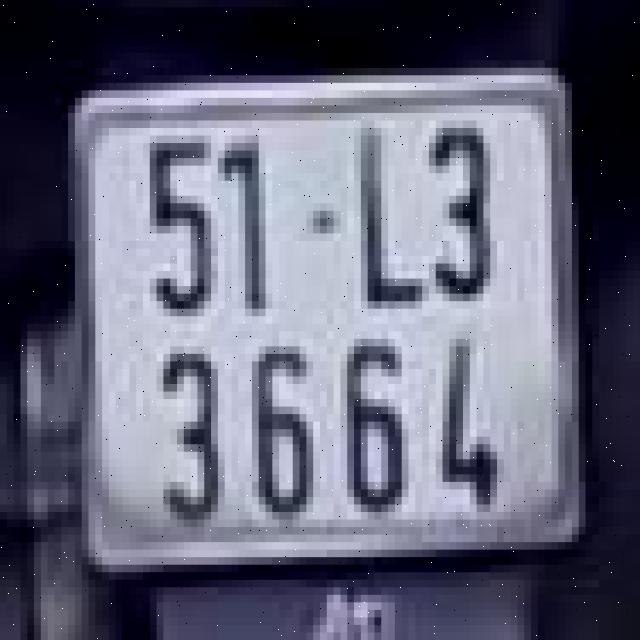1: (218, 132, 279, 328)
3: (150, 331, 238, 535), (429, 102, 497, 305)
4: (426, 316, 514, 512)
5: (140, 128, 221, 324)
6: (248, 343, 344, 523), (334, 335, 415, 523)
L: (337, 106, 432, 316)
